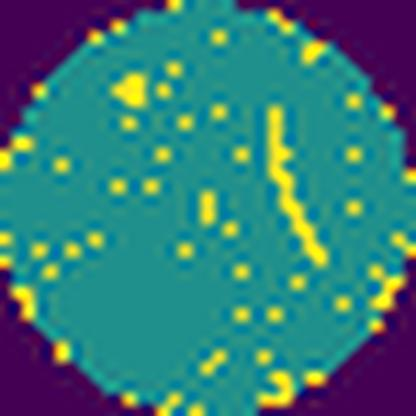Scratch: (263, 102, 334, 270)
